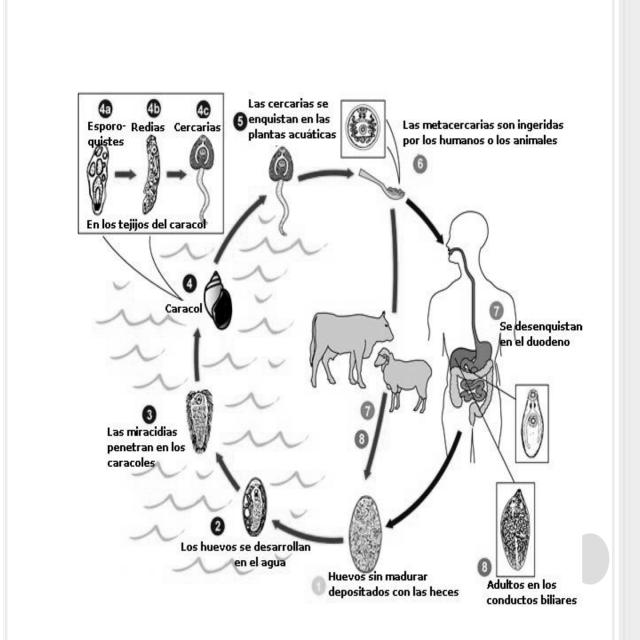Fasciola Hepatica: (346, 492, 385, 578)
